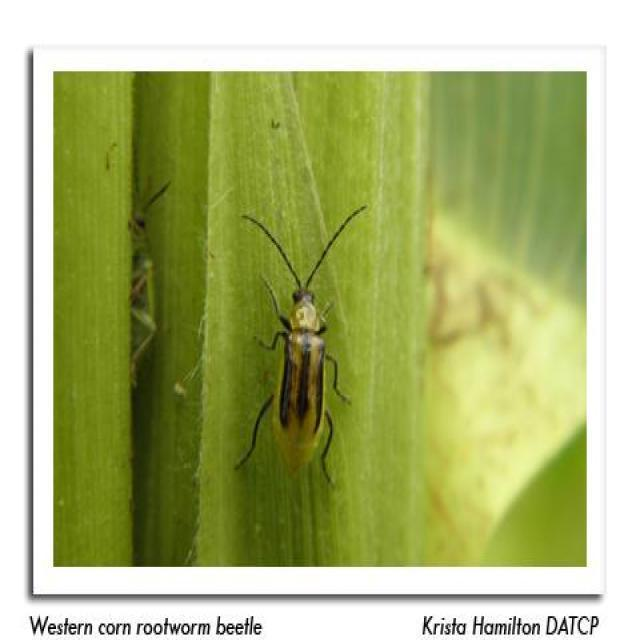trips: (232, 206, 370, 492)
